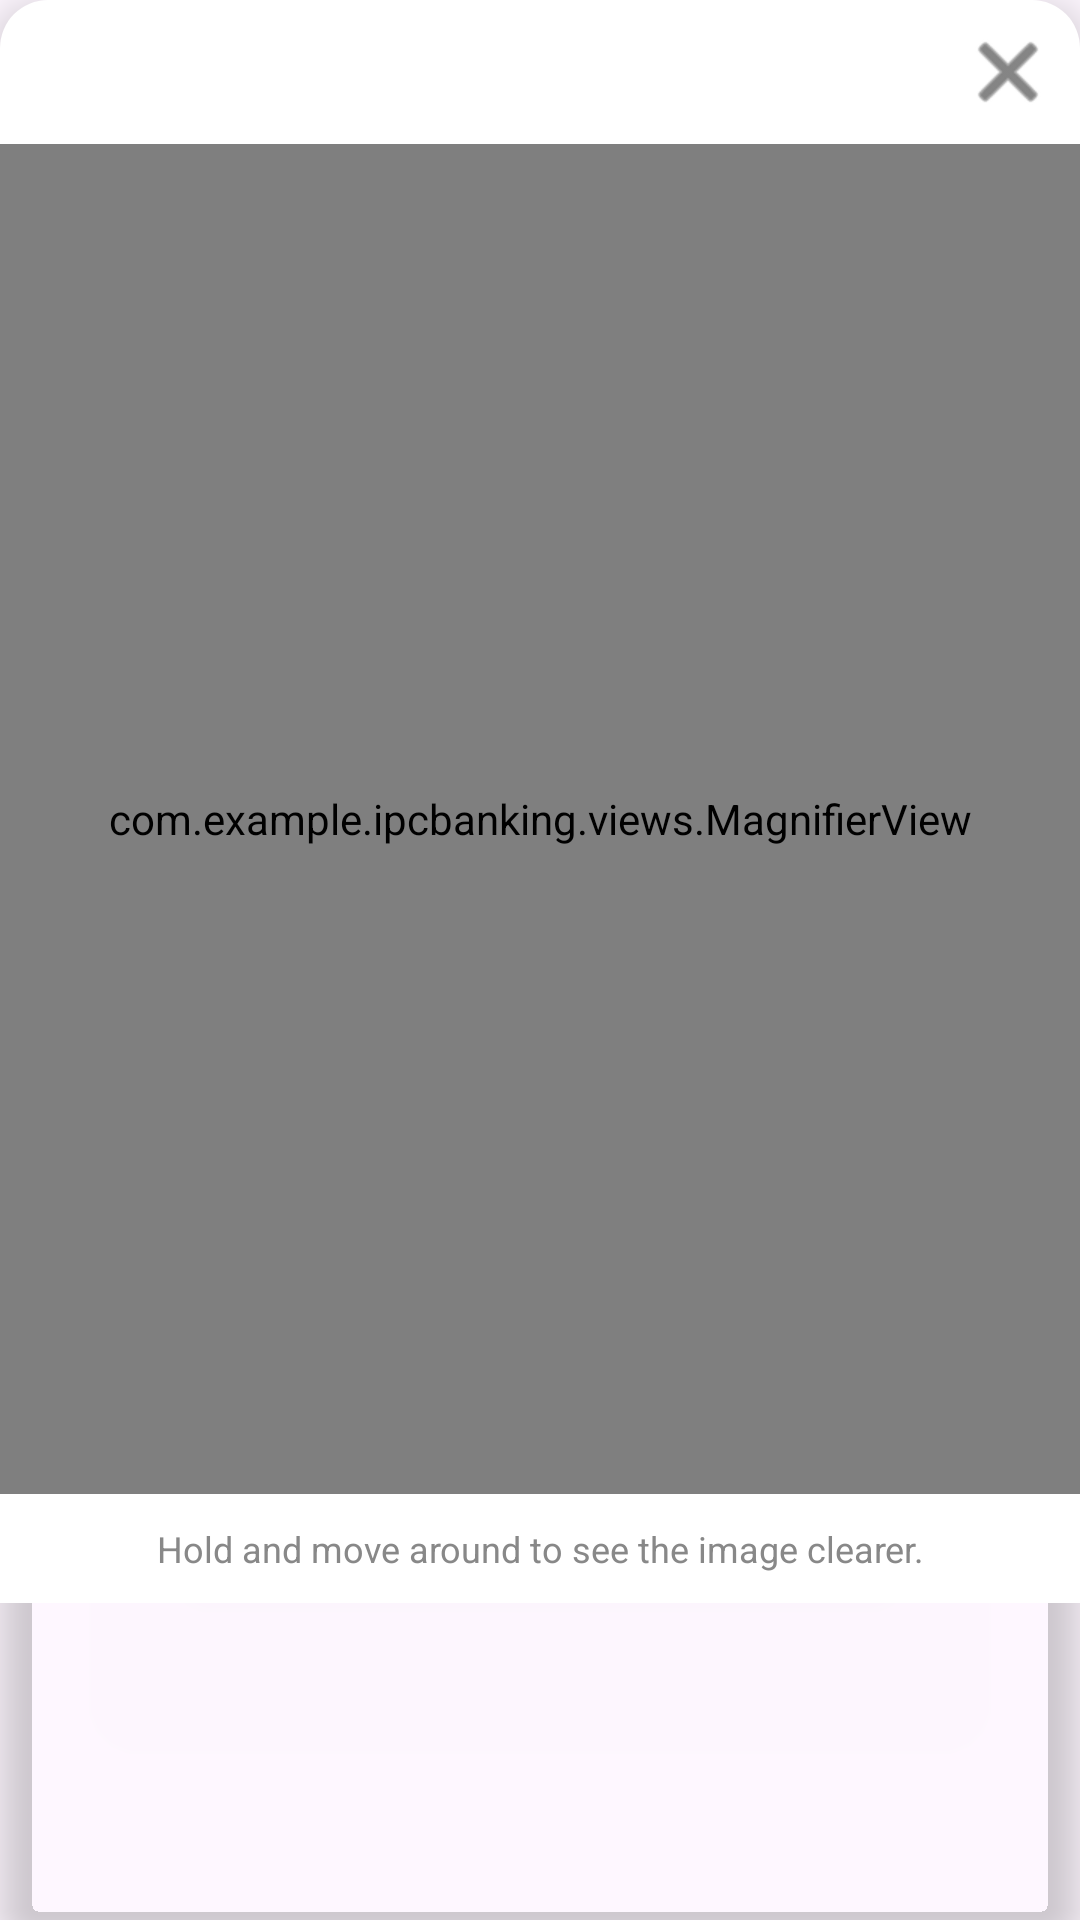

Icons on this 1080px x 1920px Android screen, each with its box as (x1, y1, x2, y2):
close clear cancel: (978, 0, 1080, 102)
